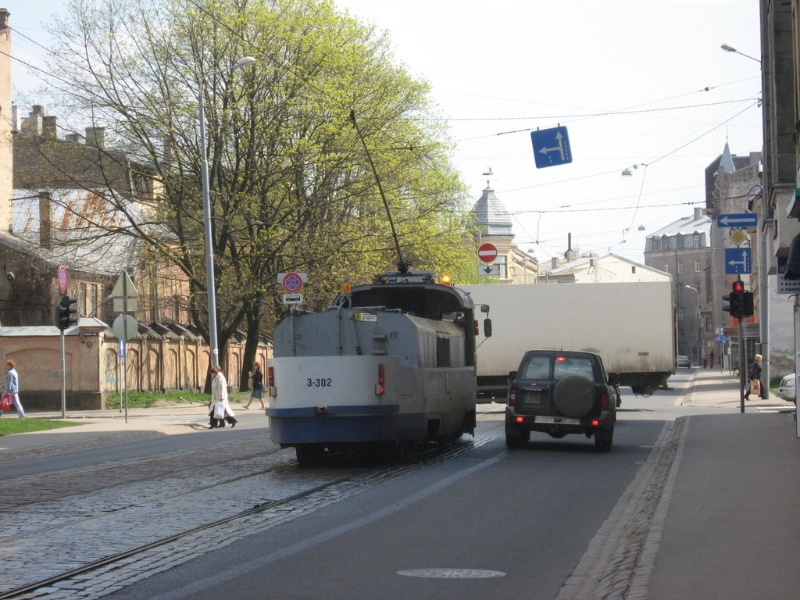no_entry: (467, 244, 509, 278)
